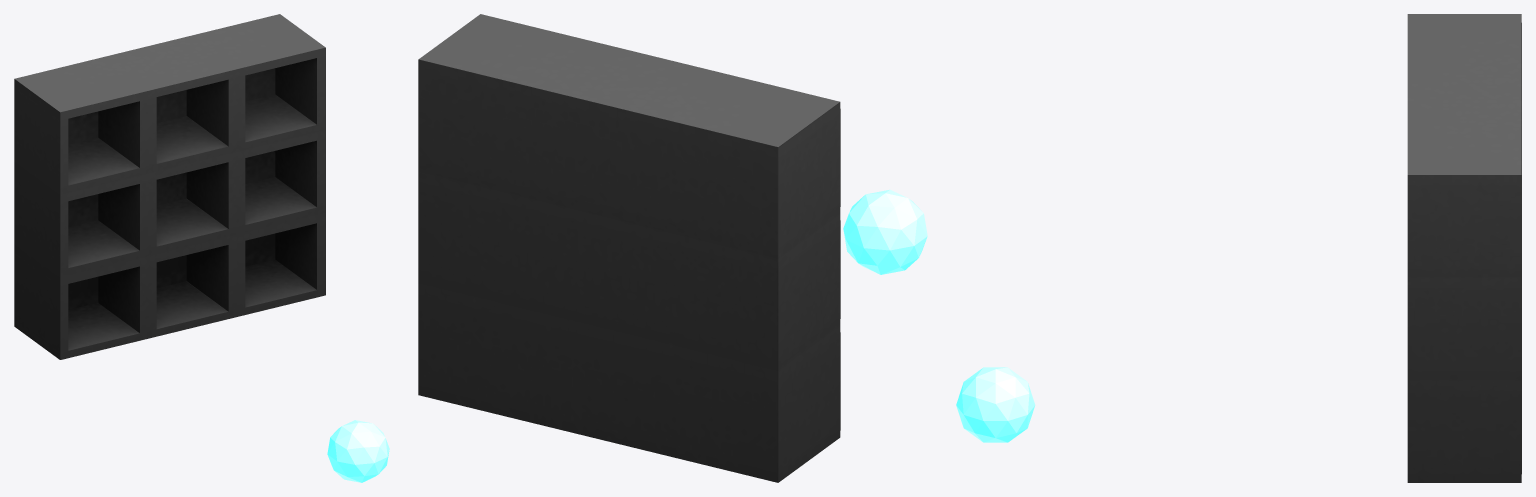
Rendered from regalkamienny.gltf.
The picture shows the model from 3 angles, left to right: view 1: azimuth 30°, elevation 25°; view 2: azimuth 150°, elevation 25°; view 3: azimuth 270°, elevation 25°; orthographic projection. The views are drawn at different scales.
Parts seen in each view (by area): view 1: Cube.002, Icosphere.009; view 2: Cube.002, Icosphere.009; view 3: Cube.002, Icosphere.009.
Part boxes in pixels (x1,y1,x2,y2): Cube.002: [14, 14, 325, 359]; Icosphere.009: [327, 420, 389, 482]; Cube.002: [418, 14, 840, 482]; Icosphere.009: [843, 189, 927, 274]; Cube.002: [1407, 14, 1521, 482]; Icosphere.009: [956, 367, 1035, 442].
Bounding box in the file's own units: 3.2 × 3.21 × 4.75.
11 materials, 1 textured.
